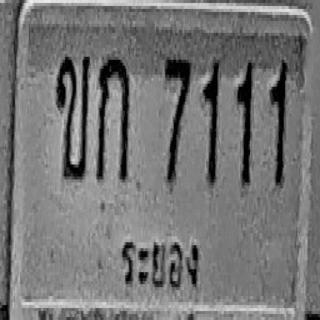A01: (96, 55, 129, 181)
A02: (55, 54, 90, 180)
N01: (270, 57, 288, 185), (202, 58, 220, 184), (236, 58, 253, 184)
N07: (164, 56, 191, 184)
P53: (117, 221, 211, 314)
